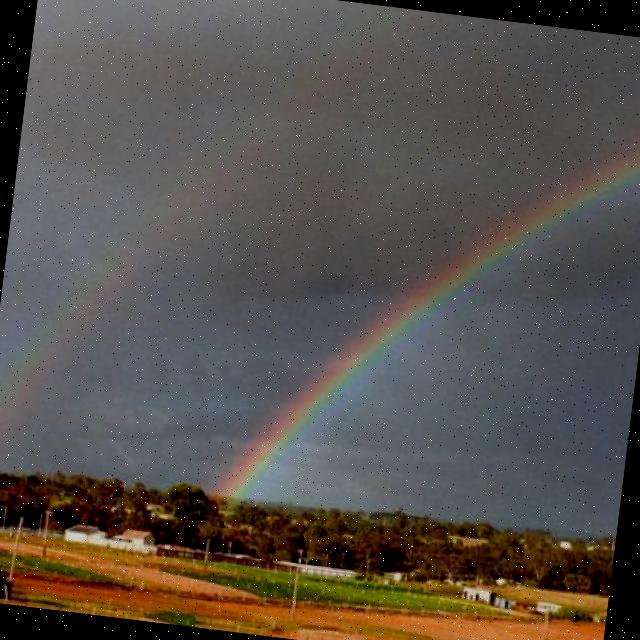Ns: (1, 1, 640, 494)
